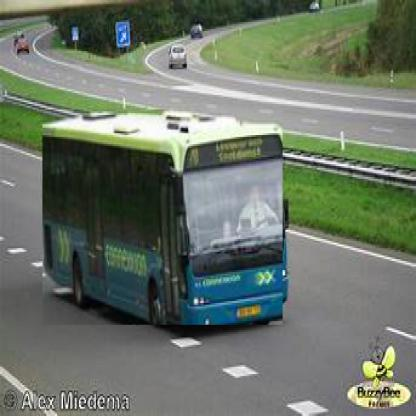bus: (43, 111, 285, 328)
